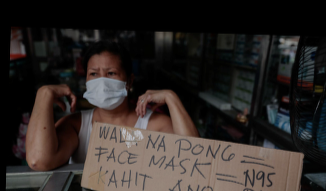with_mask: (83, 64, 129, 110)
